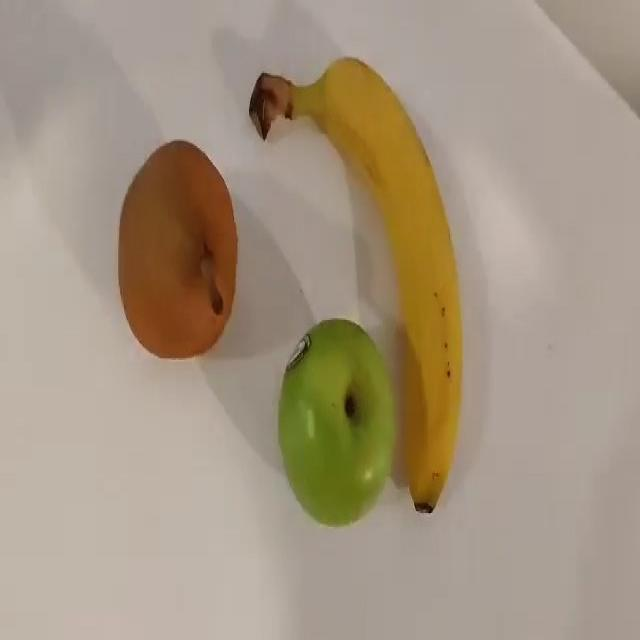Apple: (279, 316, 400, 528)
Banana: (252, 57, 462, 516)
